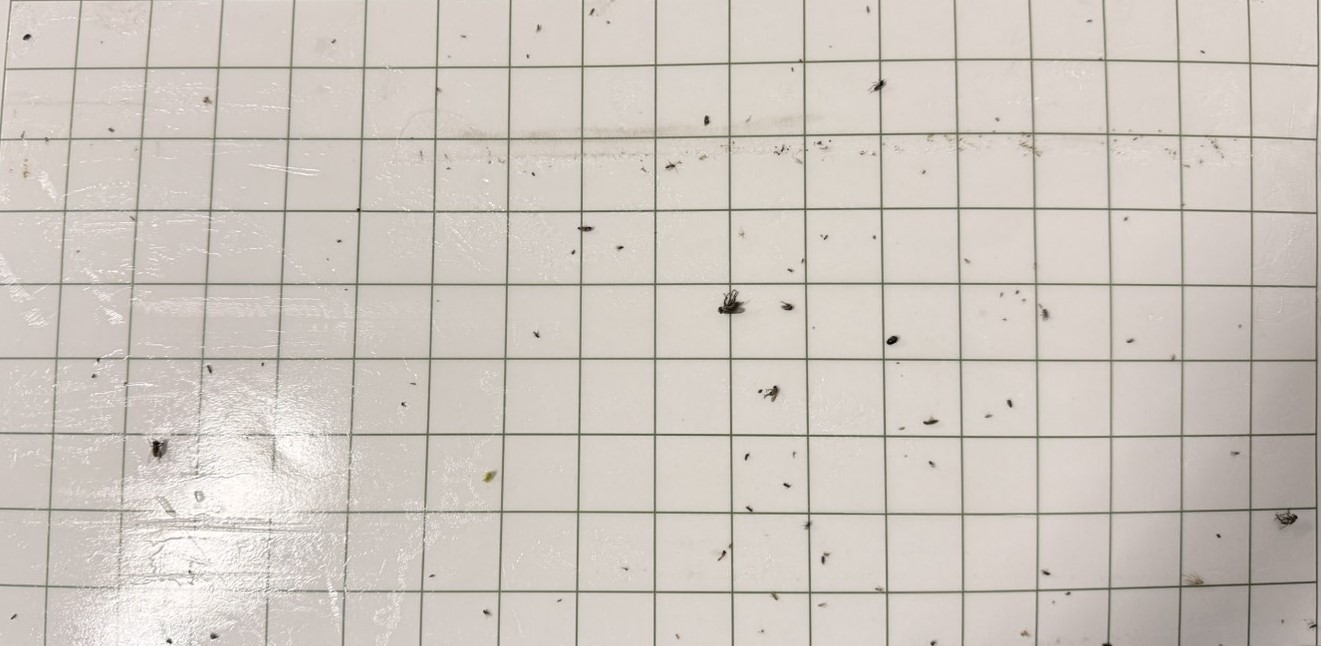fly: (714, 286, 752, 318), (146, 435, 170, 460), (1275, 508, 1300, 528)
test: (867, 73, 893, 102), (482, 468, 500, 486), (1188, 572, 1206, 589), (776, 297, 795, 313), (764, 384, 780, 401), (883, 334, 901, 346), (1040, 307, 1054, 322), (577, 223, 596, 234), (664, 160, 680, 173), (921, 415, 939, 426), (700, 114, 714, 127), (19, 32, 35, 43), (768, 590, 782, 602), (1081, 14, 1094, 26), (201, 94, 212, 107), (203, 362, 214, 375), (960, 255, 974, 265), (612, 241, 626, 251), (863, 3, 875, 14), (1003, 397, 1015, 408), (925, 459, 937, 470), (816, 600, 828, 611), (1124, 336, 1138, 345), (782, 479, 793, 490), (744, 503, 755, 514), (1040, 566, 1051, 577), (209, 630, 220, 641), (127, 213, 138, 224), (1197, 45, 1207, 57), (819, 231, 829, 243), (805, 520, 815, 532), (873, 585, 888, 593), (532, 330, 541, 343), (534, 21, 543, 34), (1169, 351, 1179, 362), (983, 410, 994, 420), (587, 6, 597, 17), (399, 399, 410, 409), (8, 612, 19, 622), (785, 264, 795, 274), (1308, 619, 1318, 629), (89, 371, 99, 381), (1229, 449, 1240, 458), (741, 452, 752, 461), (482, 608, 493, 617), (818, 555, 827, 565), (620, 565, 630, 574), (673, 631, 683, 640), (94, 355, 104, 364), (1013, 285, 1021, 296), (993, 114, 1002, 123), (896, 424, 905, 433), (1214, 531, 1223, 540), (718, 550, 727, 559), (1020, 628, 1029, 637), (329, 38, 338, 47), (778, 143, 787, 152), (919, 168, 929, 176), (639, 165, 649, 173), (458, 32, 468, 40), (555, 596, 565, 604), (108, 123, 115, 134), (788, 66, 797, 74), (1001, 315, 1009, 324), (1236, 321, 1244, 330), (789, 449, 798, 457), (1100, 640, 1112, 646), (335, 237, 343, 246), (18, 131, 27, 139), (756, 386, 763, 396), (427, 573, 437, 580), (870, 232, 878, 240), (1020, 296, 1028, 304), (603, 18, 611, 26), (569, 248, 577, 256), (726, 541, 733, 550), (43, 135, 50, 144), (797, 56, 805, 63), (1122, 215, 1129, 223), (799, 256, 806, 264), (998, 290, 1005, 298), (757, 627, 765, 634), (434, 85, 441, 93), (354, 206, 362, 213), (259, 361, 267, 368), (411, 380, 418, 388), (165, 637, 173, 644), (342, 286, 350, 293), (816, 140, 824, 147), (523, 53, 532, 59), (530, 171, 540, 176), (929, 639, 936, 646), (1065, 591, 1073, 597), (187, 568, 195, 574), (1281, 618, 1287, 625), (123, 380, 130, 386), (99, 38, 104, 45)
